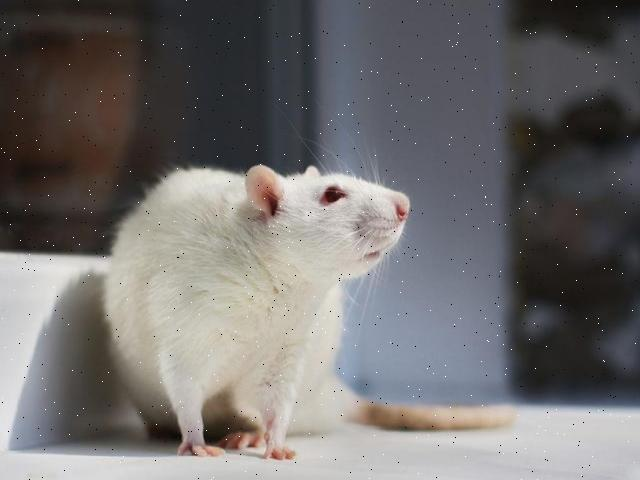Tikus: (104, 159, 414, 466)
